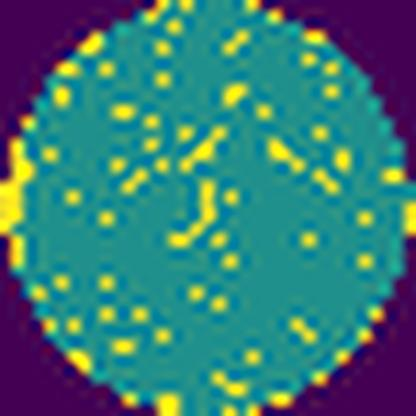Edge-Loc: (0, 135, 39, 237)
